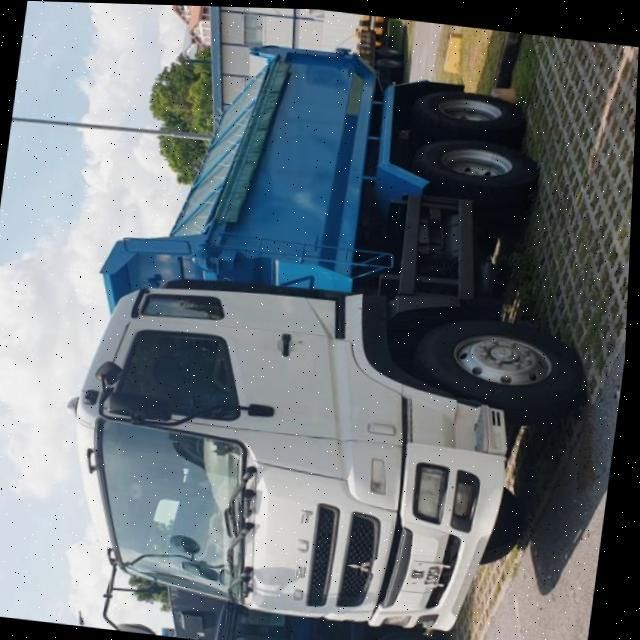truck: (50, 19, 622, 640)
